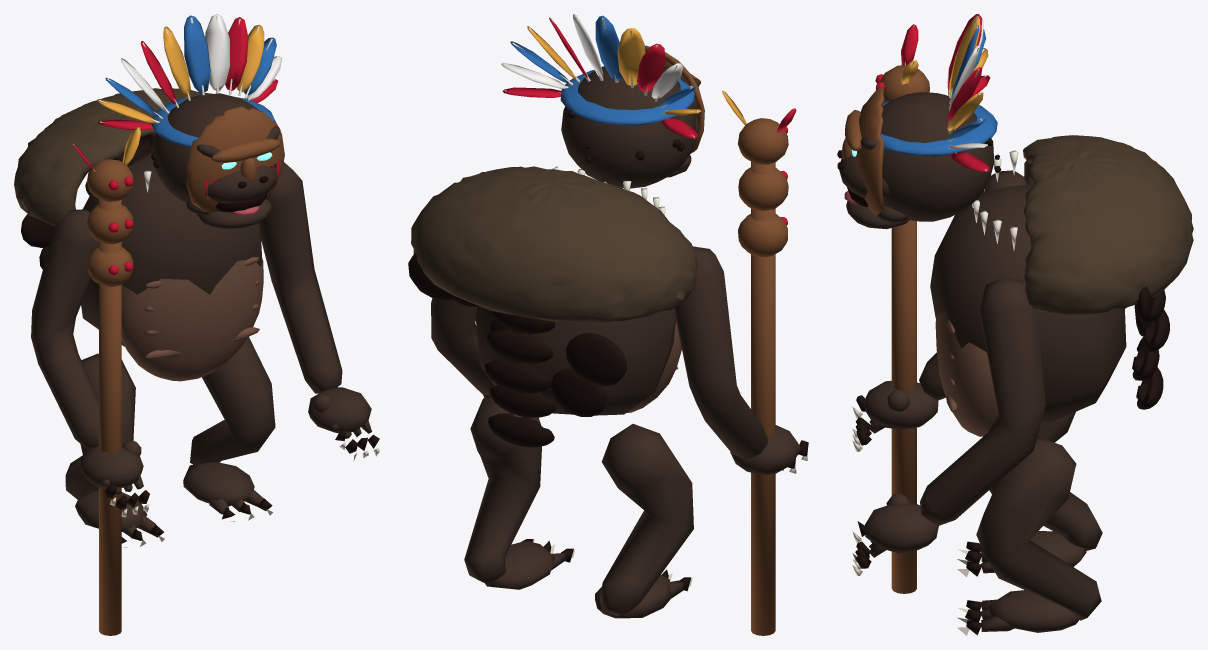
File: hoevding_1.glb
3 views of the same model, side by side, from view 1: azimuth 30°, elevation 25°; view 2: azimuth 150°, elevation 25°; view 3: azimuth 270°, elevation 25° (orthographic). The views are drawn at different scales.
Visible parts, largest first — view 1: krop_net, armH_net, hoved_net, armV_net, benV_net, benH_net; view 2: krop_net, armH_net, hoved_net, benH_net, benV_net, armV_net; view 3: krop_net, hoved_net, armV_net, benV_net, armH_net, benH_net.
Part boxes in pixels (bbox=[...]): krop_net: bbox=[14, 88, 263, 381]; armH_net: bbox=[31, 127, 149, 635]; hoved_net: bbox=[97, 14, 284, 229]; armV_net: bbox=[260, 162, 379, 461]; benV_net: bbox=[183, 336, 275, 521]; benH_net: bbox=[65, 353, 164, 547]; krop_net: bbox=[408, 166, 697, 447]; armH_net: bbox=[674, 90, 808, 635]; hoved_net: bbox=[501, 14, 704, 188]; benH_net: bbox=[595, 424, 693, 618]; benV_net: bbox=[464, 397, 575, 589]; armV_net: bbox=[431, 298, 494, 397]; krop_net: bbox=[930, 135, 1193, 436]; hoved_net: bbox=[837, 14, 1001, 229]; armV_net: bbox=[852, 277, 1045, 575]; benV_net: bbox=[957, 436, 1101, 635]; armH_net: bbox=[852, 24, 1026, 593]; benH_net: bbox=[957, 412, 1102, 577].
Size of the model in its own units: 2.4 by 4.48 by 2.32.
